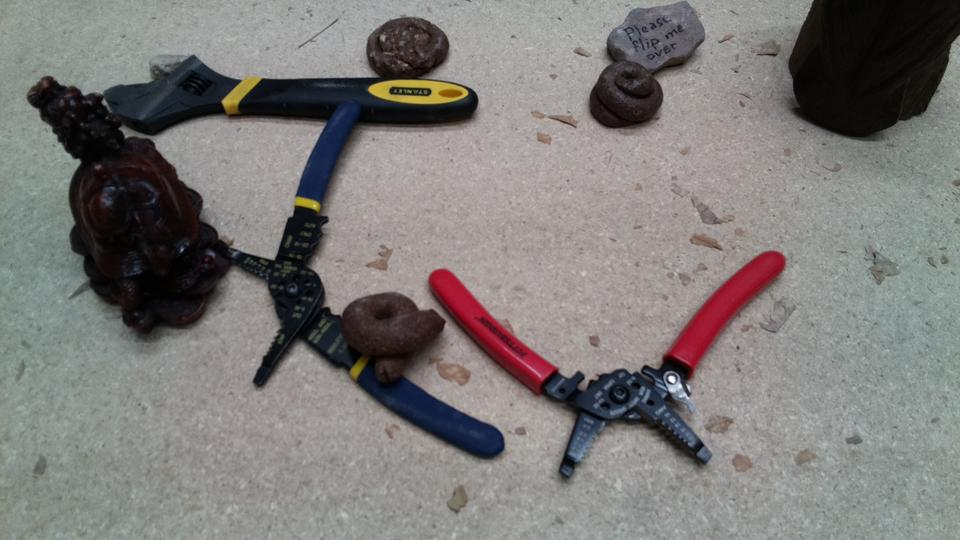poop: (340, 289, 450, 386), (582, 57, 667, 133), (364, 14, 453, 82)
